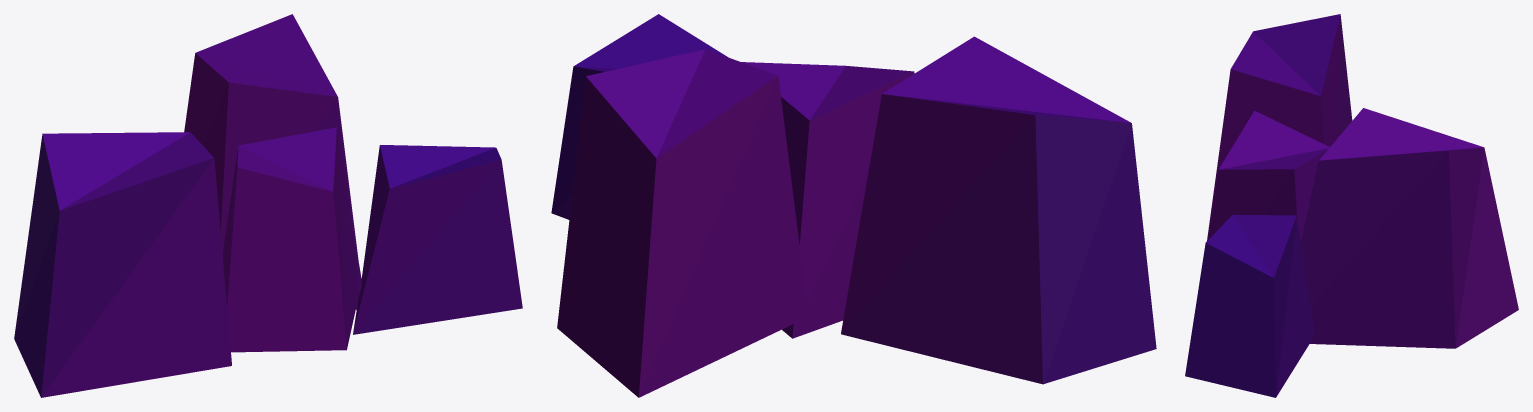
Rendered from SM_CinderCanyon_Chip_C.fbx.
3 renders of one model, left to right at view 1: azimuth 30°, elevation 25°; view 2: azimuth 150°, elevation 25°; view 3: azimuth 270°, elevation 25°, orthographic. The views are drawn at different scales.
Visible parts, largest first — view 1: SM_CinderCanyon_Chip_C; view 2: SM_CinderCanyon_Chip_C; view 3: SM_CinderCanyon_Chip_C.
Boxes of the visible parts, x1,y1,x2,y2 form: SM_CinderCanyon_Chip_C: (14, 14, 522, 397); SM_CinderCanyon_Chip_C: (551, 14, 1156, 397); SM_CinderCanyon_Chip_C: (1185, 14, 1518, 397).
Bounding box in the file's own units: 100 × 66 × 44.
